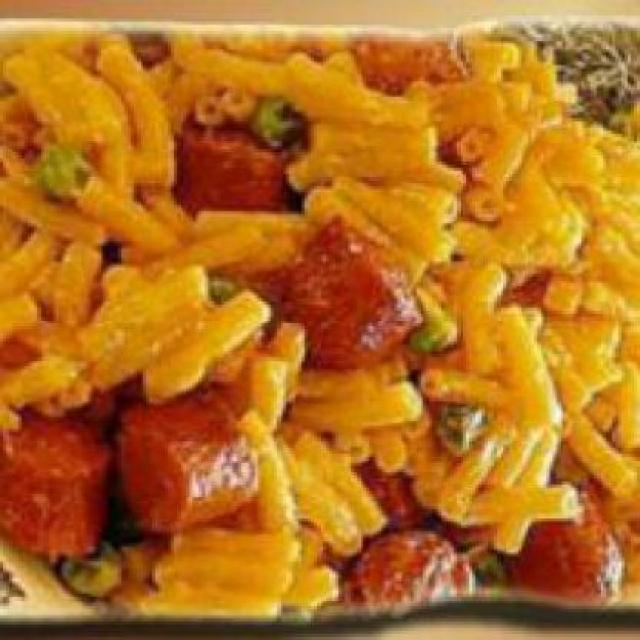hot dog: (177, 96, 414, 364), (342, 438, 616, 622), (10, 367, 242, 547)
